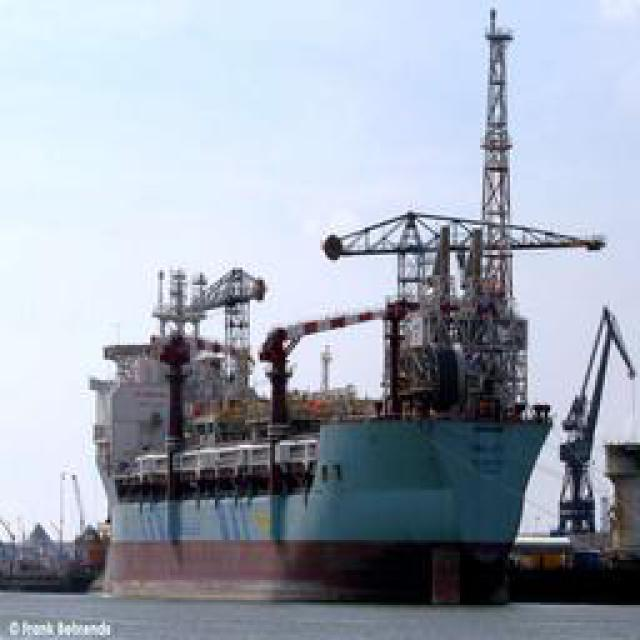Ship: (76, 182, 606, 602)
